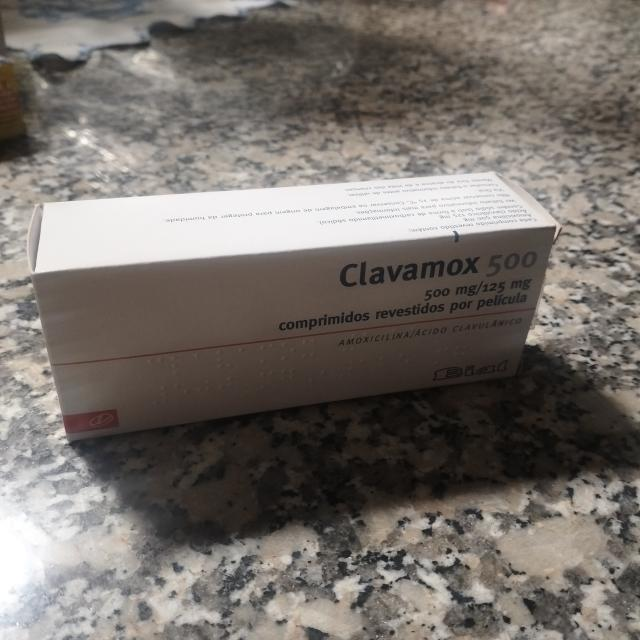box: (32, 171, 555, 441)
